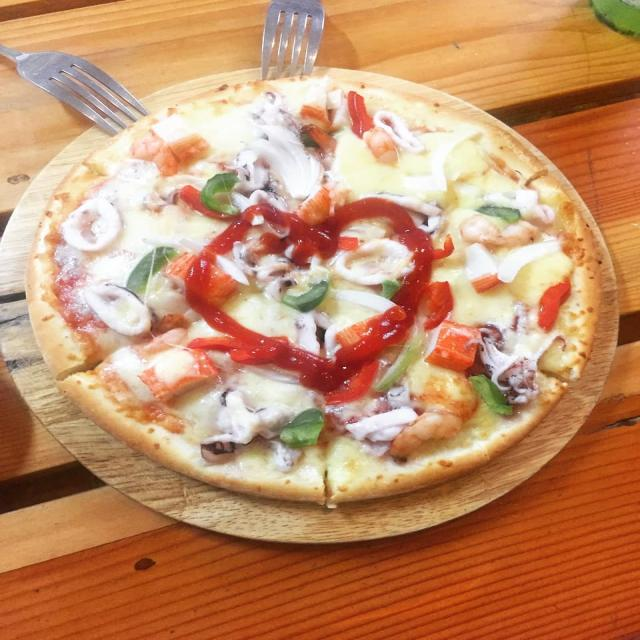peppers: (189, 334, 296, 366), (173, 180, 233, 227), (321, 359, 378, 406), (126, 245, 178, 295), (466, 372, 521, 416), (198, 170, 242, 218), (281, 405, 325, 447), (538, 278, 570, 331), (279, 279, 322, 314), (348, 90, 376, 140), (426, 278, 450, 328), (475, 201, 521, 226), (418, 232, 456, 262), (336, 234, 362, 255)
pizza: (23, 68, 619, 513)
